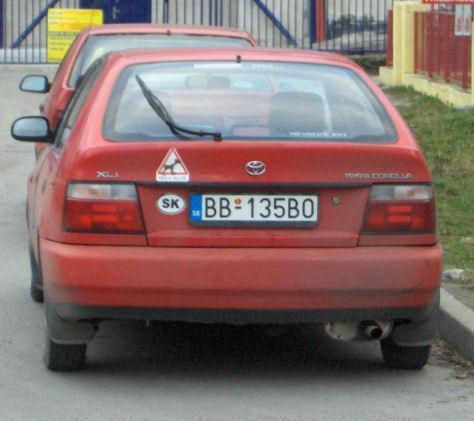placa de veiculo: (180, 183, 335, 247)
